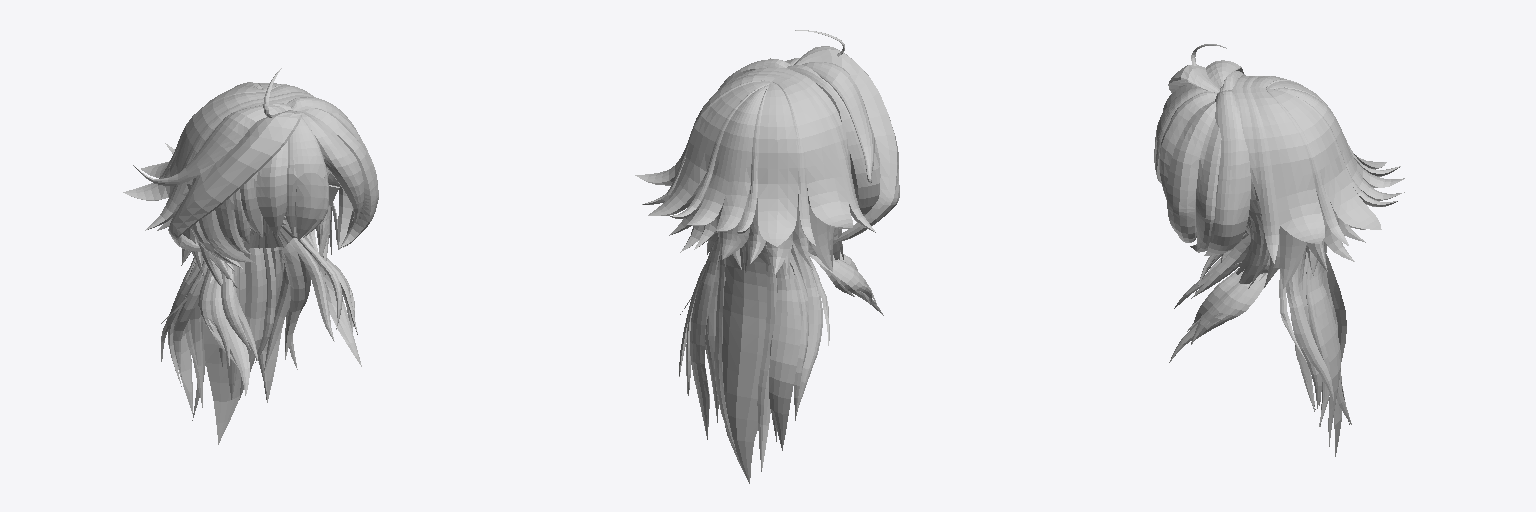
The model's file is HairShort.obj.
3 views of the same model, side by side, from view 1: azimuth 30°, elevation 25°; view 2: azimuth 150°, elevation 25°; view 3: azimuth 270°, elevation 25° (orthographic).
Visible parts, largest first — view 1: 妹抖_mesh_妹抖.001; view 2: 妹抖_mesh_妹抖.001; view 3: 妹抖_mesh_妹抖.001.
Boxes of the visible parts, box(x1,y1,x2,y2) form: 妹抖_mesh_妹抖.001: box(123, 68, 378, 444); 妹抖_mesh_妹抖.001: box(635, 30, 899, 483); 妹抖_mesh_妹抖.001: box(1154, 44, 1404, 456).
Size of the model in its own units: 0.7025 by 1.22 by 0.6742.